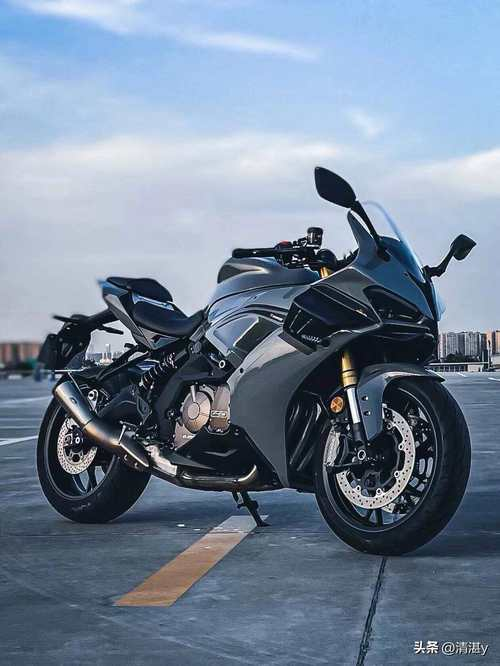摩托车: (25, 169, 489, 572)
